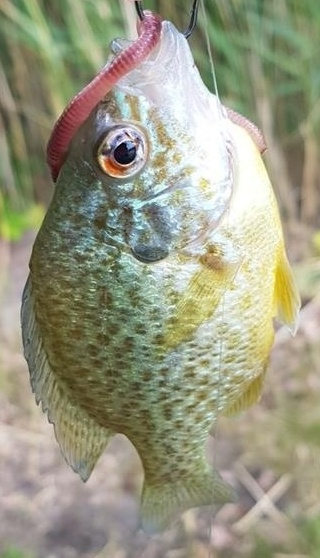Lepomis gibbosus: (20, 20, 300, 538)
